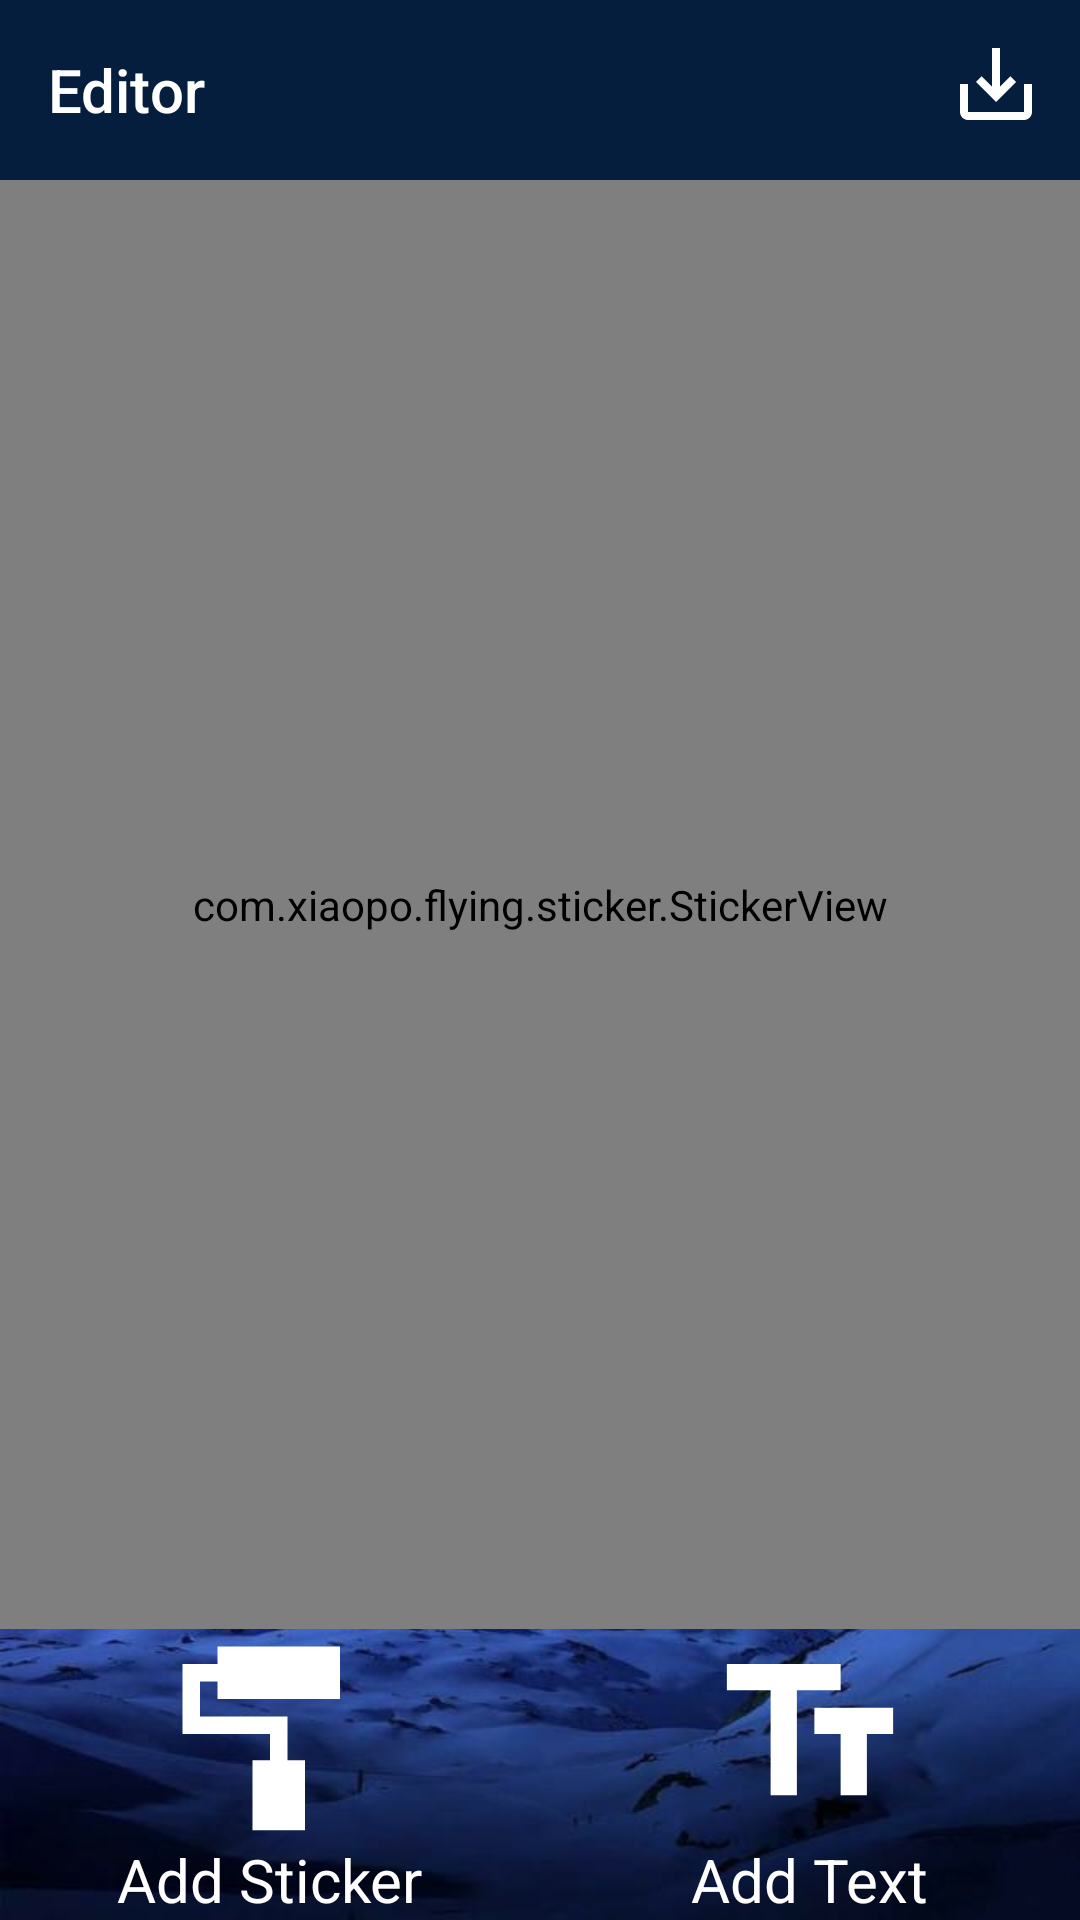

Screen size 1080 x 1920. Icon name, then its center in pixels as point (x, y):
imagesearch roller: point (270, 1734)
text fields: point (810, 1734)
